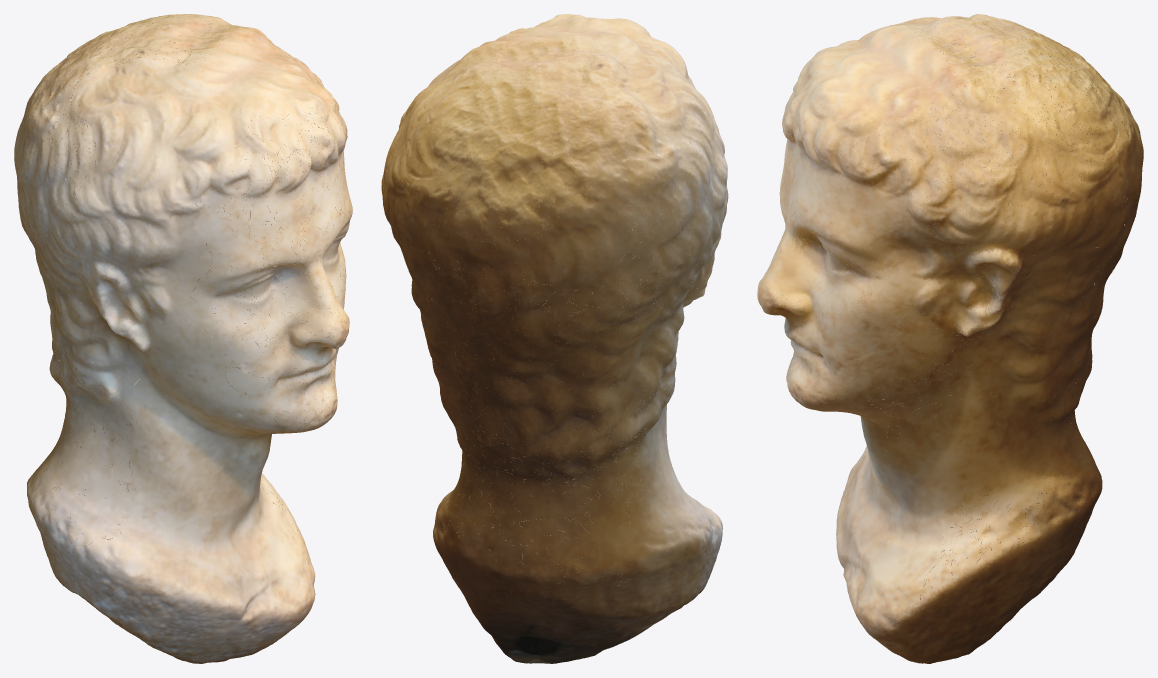
The model's file is caligula_opt.glb.
The picture shows the model from 3 angles, left to right: view 1: azimuth 30°, elevation 25°; view 2: azimuth 150°, elevation 25°; view 3: azimuth 270°, elevation 25°; orthographic projection. The views are drawn at different scales.
Parts seen in each view (by area): view 1: Object_5, Object_3, Object_2, Object_4; view 2: Object_2, Object_3, Object_5, Object_4; view 3: Object_2, Object_3, Object_5, Object_4.
Boxes of the visible parts, x1,y1,x2,y2 form: Object_5: (16, 31, 346, 663); Object_3: (14, 14, 352, 550); Object_2: (14, 14, 352, 542); Object_4: (14, 14, 349, 543); Object_2: (381, 38, 725, 602); Object_3: (381, 36, 725, 601); Object_5: (439, 14, 728, 663); Object_4: (385, 42, 724, 602); Object_2: (758, 16, 1142, 602); Object_3: (757, 14, 1143, 599); Object_5: (759, 14, 1123, 663); Object_4: (760, 15, 1142, 600).
Size of the model in its own units: 214 by 430 by 249.
Materials: 2 (2 with a texture image).
